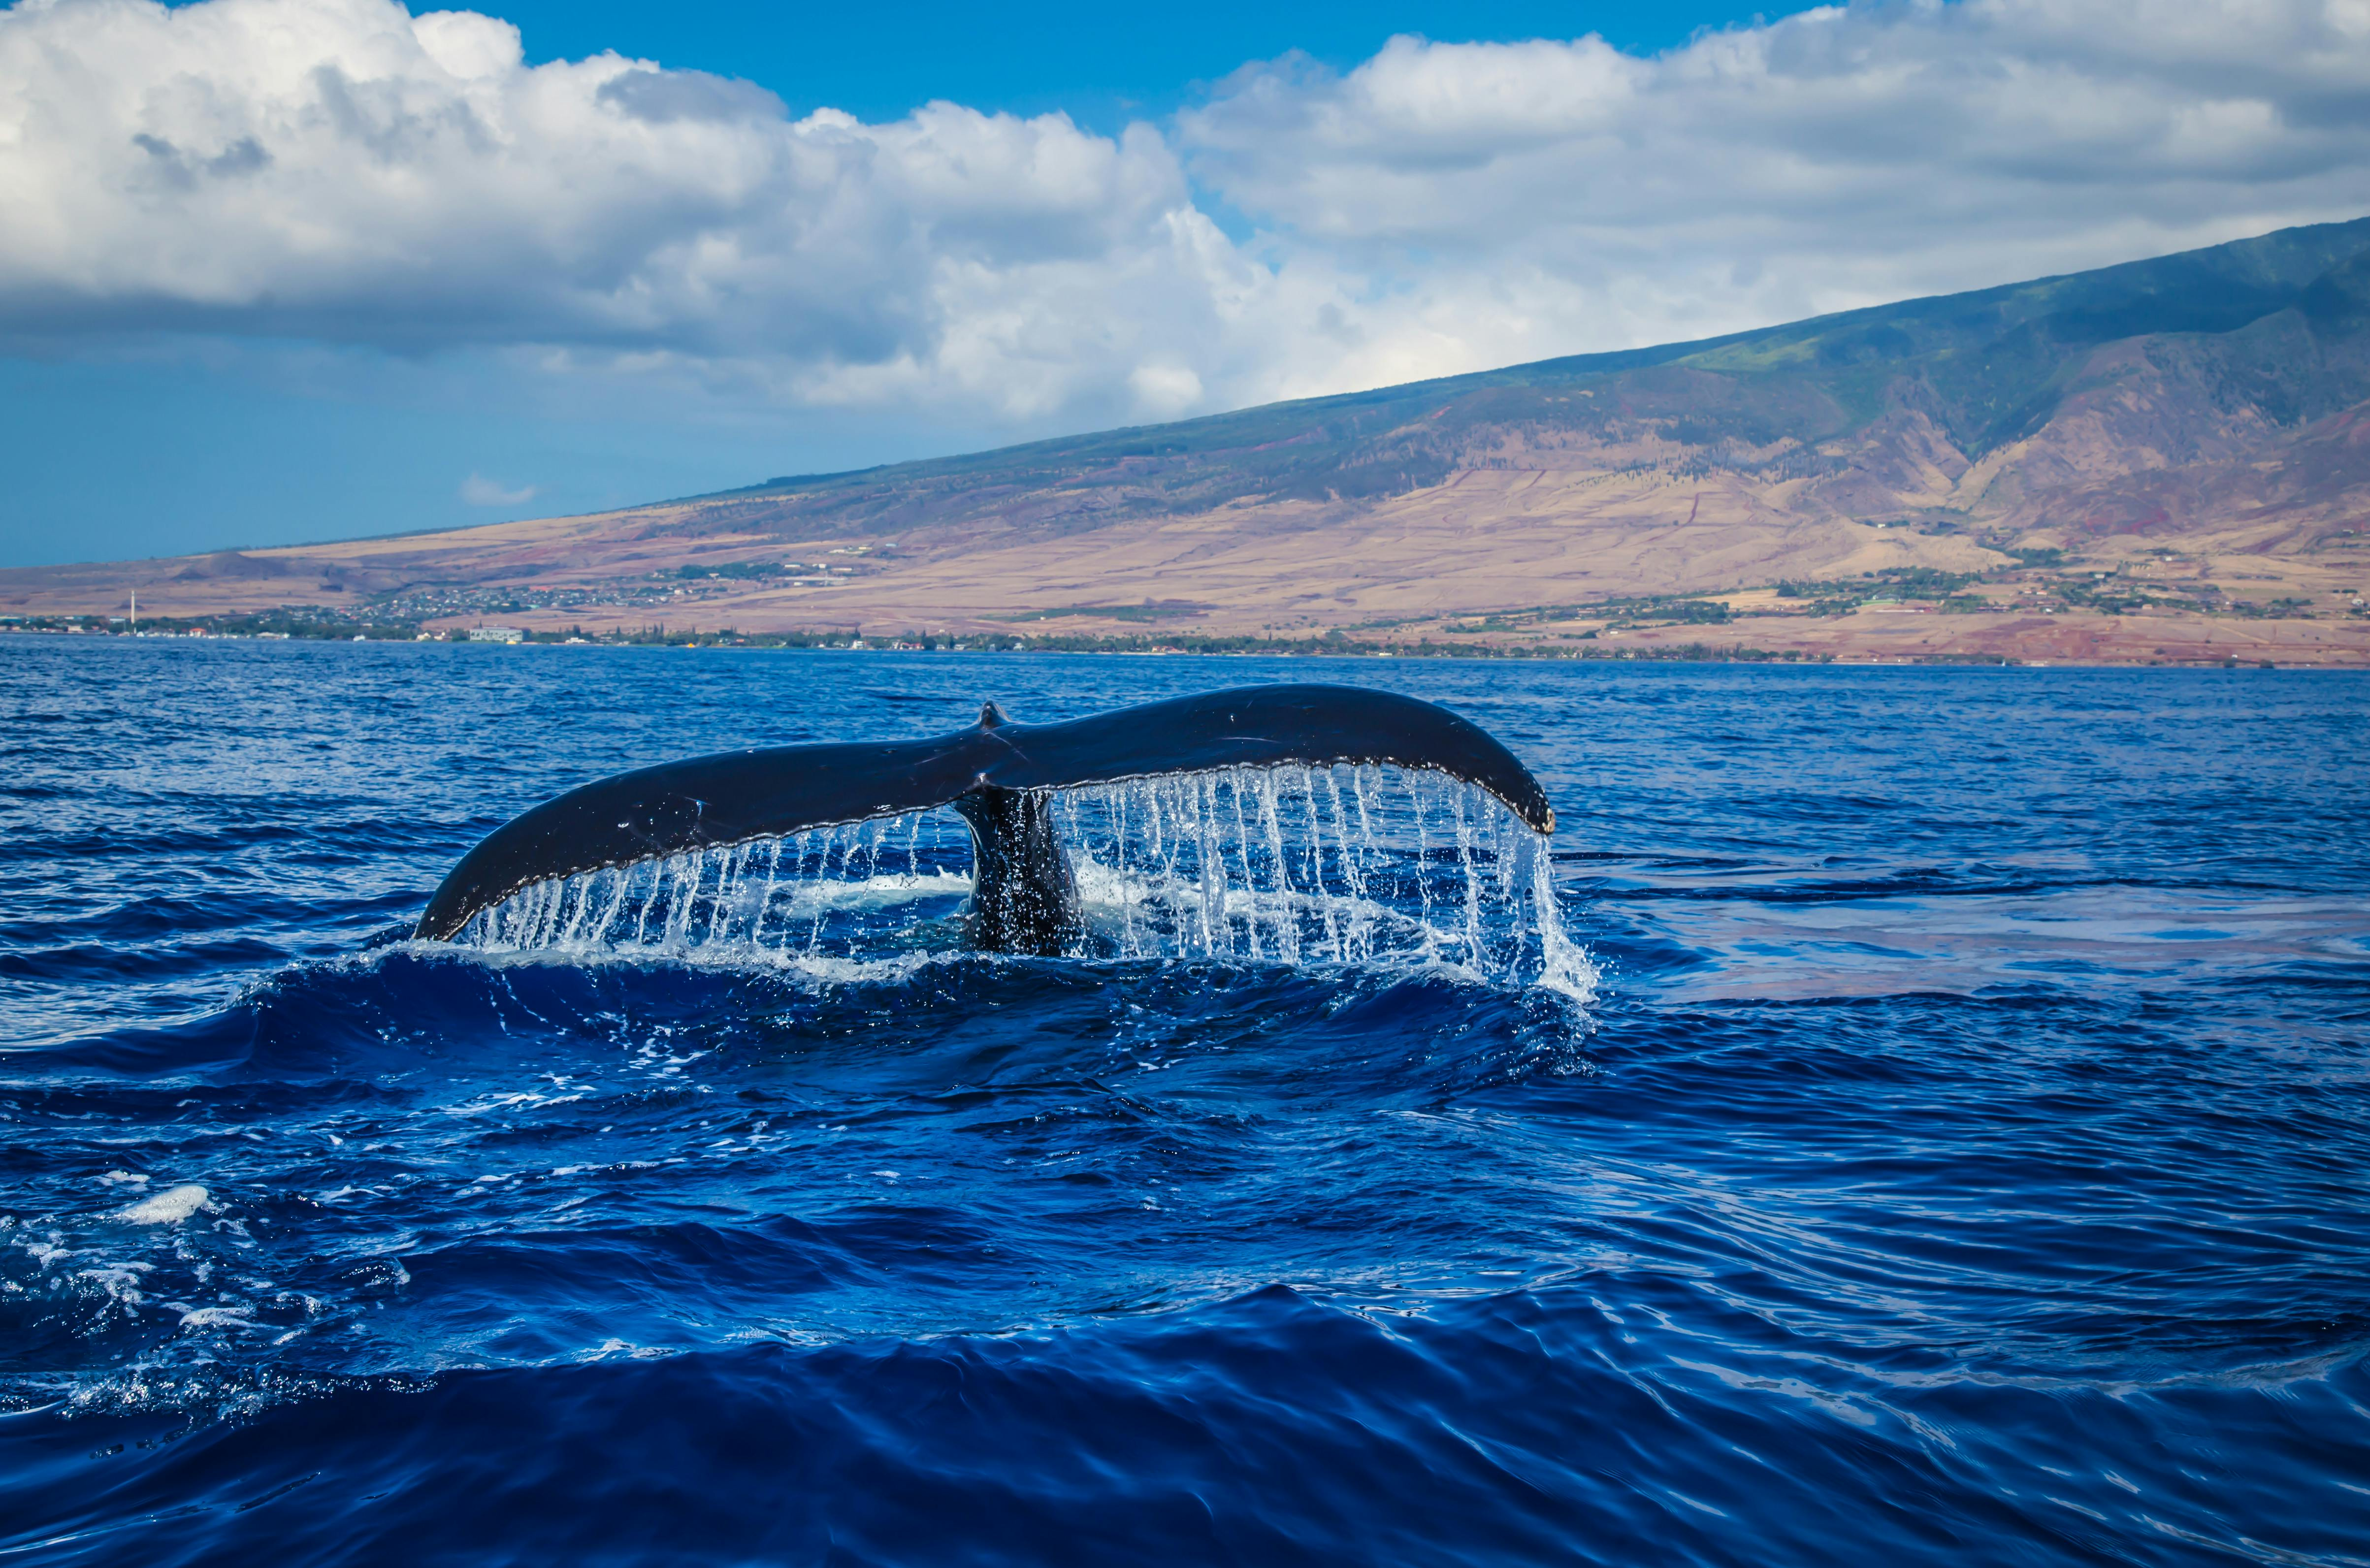whale: (411, 675, 1554, 968)
